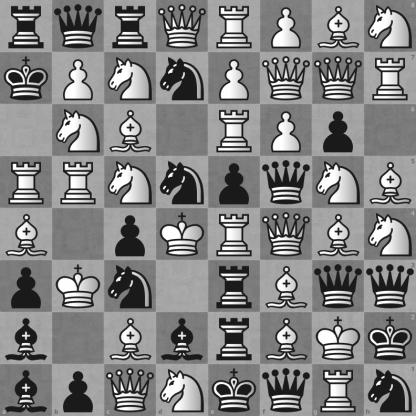B: (364, 156, 416, 209), (1, 209, 52, 260), (105, 105, 156, 156), (105, 313, 156, 364), (261, 261, 312, 312), (261, 313, 312, 364), (313, 1, 364, 52), (313, 209, 364, 260)
K: (53, 261, 104, 312), (157, 209, 208, 260), (313, 313, 364, 364)
N: (156, 364, 209, 416), (364, 0, 416, 52), (364, 209, 416, 260), (53, 105, 104, 156), (105, 53, 156, 104), (105, 157, 156, 208), (313, 157, 364, 208)
P: (53, 53, 104, 104), (209, 53, 260, 104), (261, 1, 312, 52), (261, 105, 312, 156)
Q: (104, 364, 156, 416), (157, 1, 208, 52), (261, 53, 312, 104), (261, 209, 312, 260), (313, 53, 364, 104)
R: (312, 364, 364, 416), (364, 52, 416, 104), (1, 157, 52, 208), (53, 157, 104, 208), (209, 1, 260, 52), (209, 105, 260, 156), (209, 209, 260, 260)
b: (0, 364, 52, 416), (1, 313, 52, 364), (157, 313, 208, 364)
board: (0, 0, 415, 415)
k: (364, 312, 416, 364), (209, 364, 260, 416), (1, 53, 52, 104)
n: (364, 364, 416, 416), (105, 261, 156, 312), (157, 53, 208, 104), (157, 157, 208, 208)
p: (52, 364, 104, 416), (1, 261, 52, 312), (105, 209, 156, 260), (209, 157, 260, 208), (313, 105, 364, 156)
q: (260, 364, 312, 416), (364, 260, 416, 312), (53, 1, 104, 52), (261, 157, 312, 208), (313, 261, 364, 312)
r: (1, 1, 52, 52), (105, 1, 156, 52), (209, 261, 260, 312), (209, 313, 260, 364)
